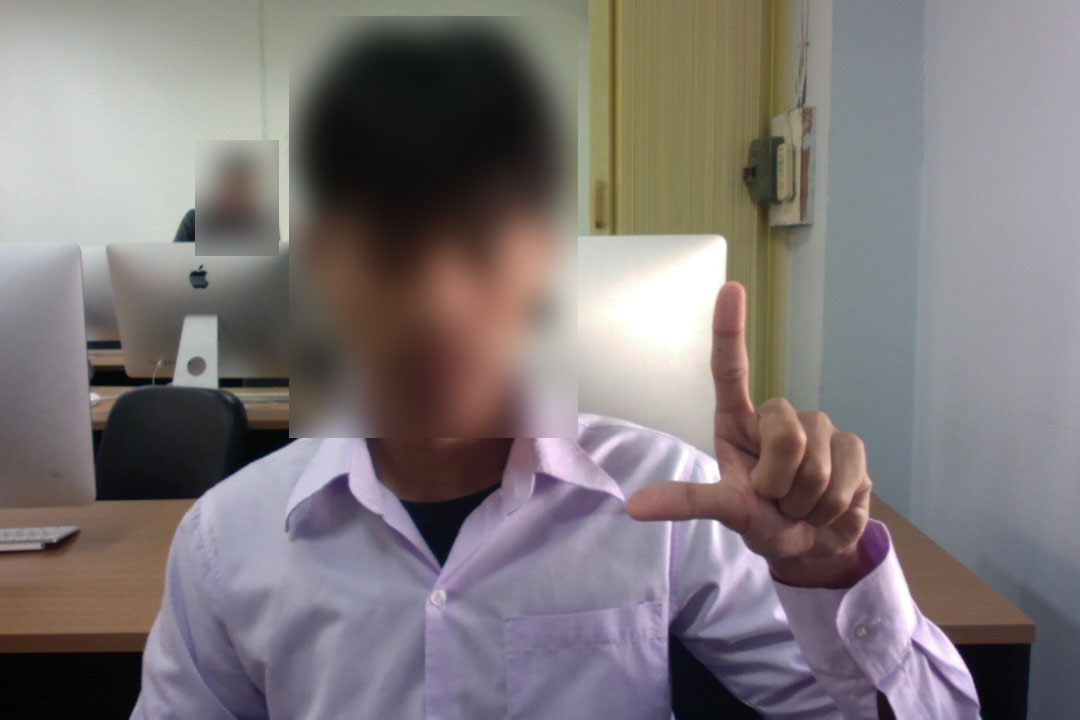lor: (617, 270, 888, 613)
